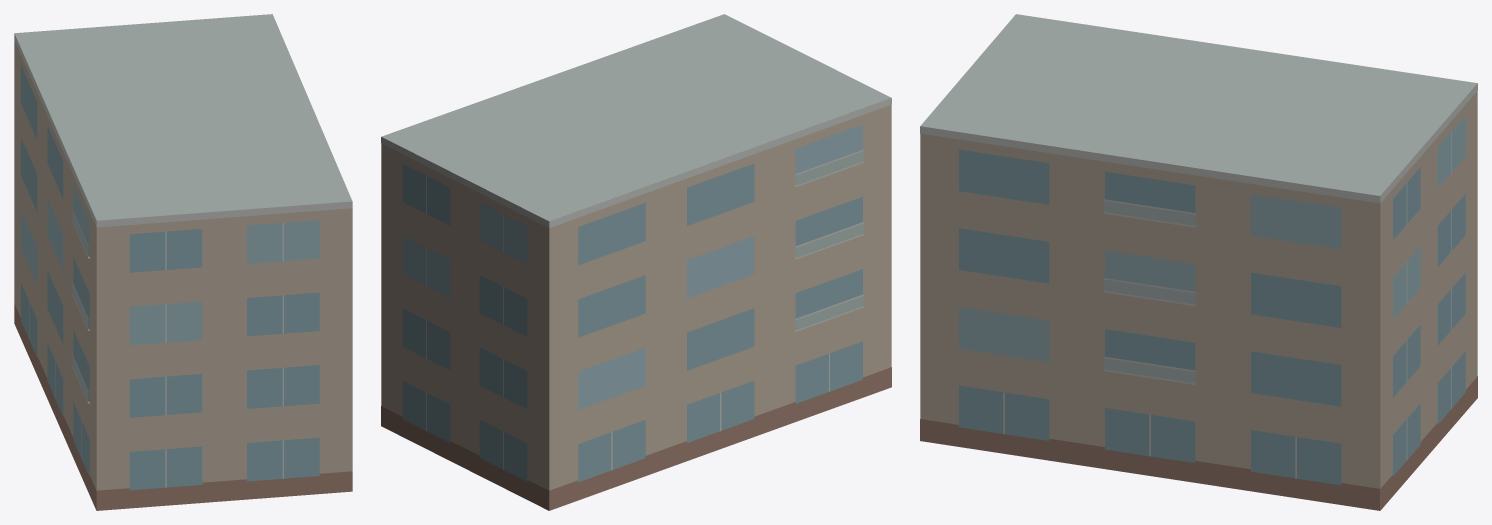
Rendered from survey-upis-32888434.glb.
3 views of the same model, side by side, from view 1: azimuth 30°, elevation 25°; view 2: azimuth 150°, elevation 25°; view 3: azimuth 270°, elevation 25° (orthographic). The views are drawn at different scales.
Visible parts, largest first — view 1: survey-upis-32888434.tmp; view 2: survey-upis-32888434.tmp; view 3: survey-upis-32888434.tmp.
Part boxes in pixels (box(x1,y1,x2,y2)): survey-upis-32888434.tmp: box(14, 14, 352, 510); survey-upis-32888434.tmp: box(381, 14, 891, 510); survey-upis-32888434.tmp: box(920, 14, 1477, 510).
Size of the model in its own units: 12.91 by 10.4 by 16.71.
